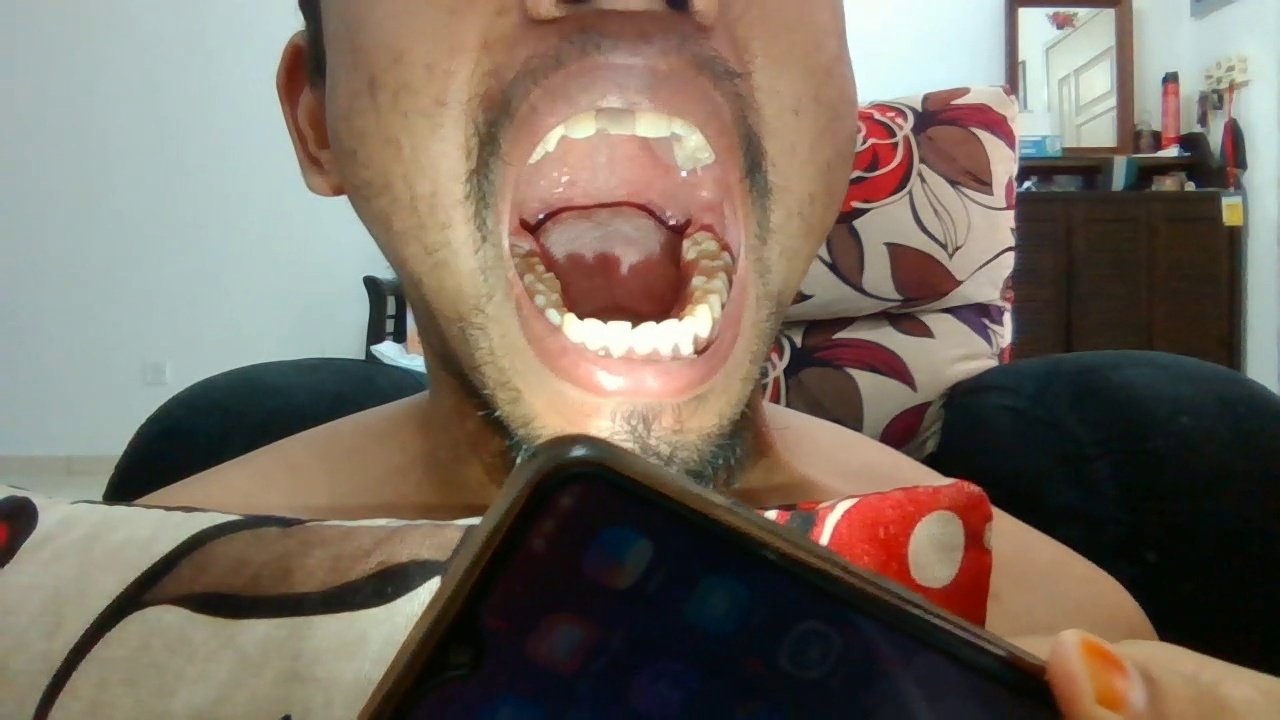1st Molar: (692, 269, 729, 300), (523, 272, 562, 291)
1st Premolar: (685, 301, 714, 338), (543, 305, 561, 325)
2nd Molar: (695, 250, 734, 270), (511, 257, 544, 273)
2nd Premolar: (692, 289, 721, 314), (534, 292, 561, 307)
3rd Molar: (680, 231, 720, 258), (508, 242, 533, 257)
Canine: (679, 316, 696, 358), (561, 312, 583, 343), (544, 125, 565, 153)
Central Incisor: (596, 107, 635, 136), (605, 320, 632, 360), (632, 317, 658, 356), (635, 110, 670, 138)
Lateral Incisor: (564, 111, 597, 139), (658, 318, 679, 360), (583, 317, 605, 354), (670, 114, 695, 137)
